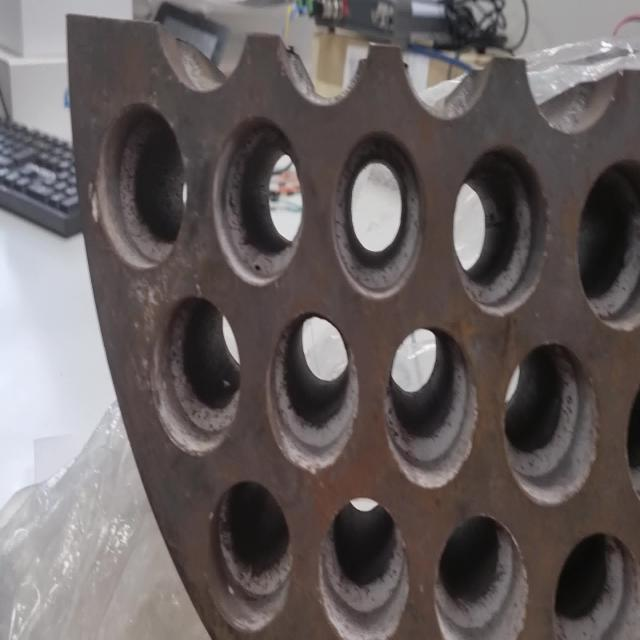Hole: (452, 144, 550, 316), (90, 101, 188, 269), (330, 129, 426, 300), (502, 340, 600, 506), (212, 113, 305, 286), (384, 324, 478, 490), (266, 310, 360, 473), (151, 295, 242, 456), (318, 496, 410, 640), (208, 480, 293, 634), (434, 514, 528, 640), (577, 158, 640, 332), (552, 530, 638, 640), (625, 353, 640, 517)
